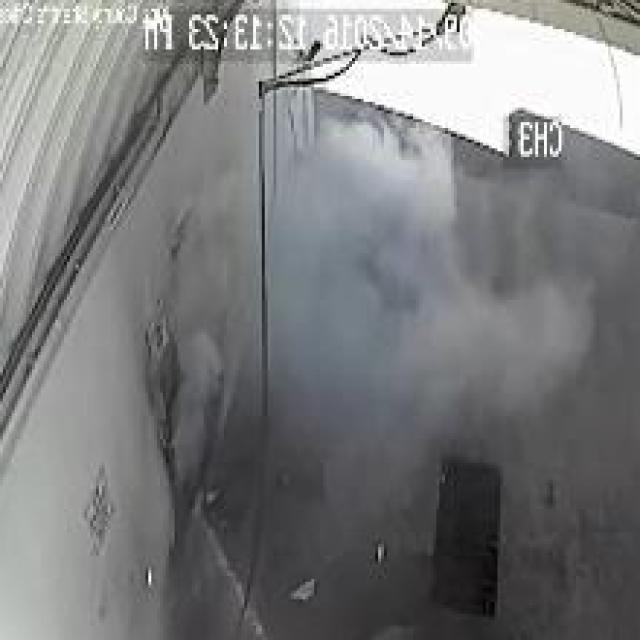fire: (238, 115, 596, 438)
